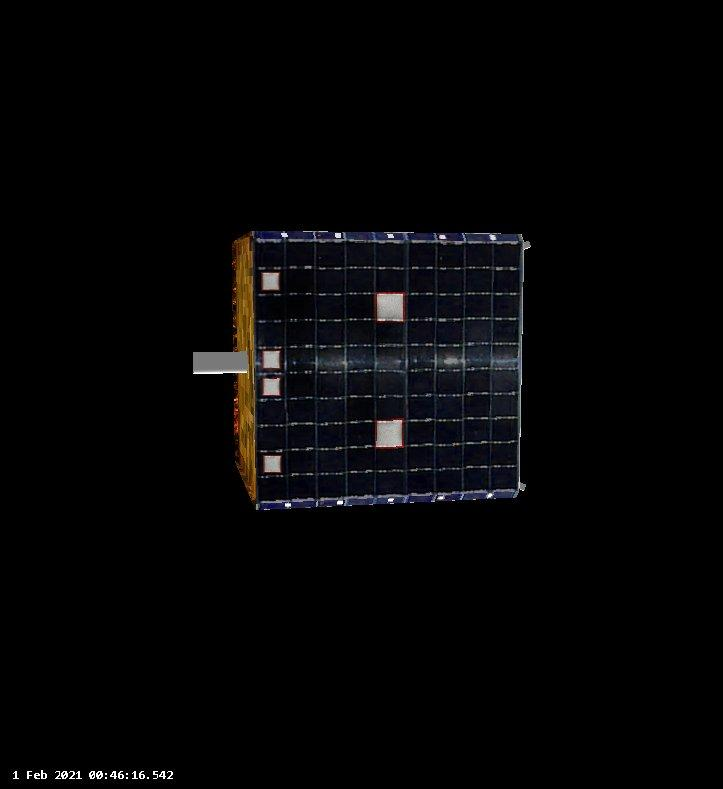body: (226, 226, 528, 510)
solar: (248, 223, 531, 510)
thruster: (186, 345, 254, 378), (514, 474, 528, 500), (518, 236, 534, 254)
